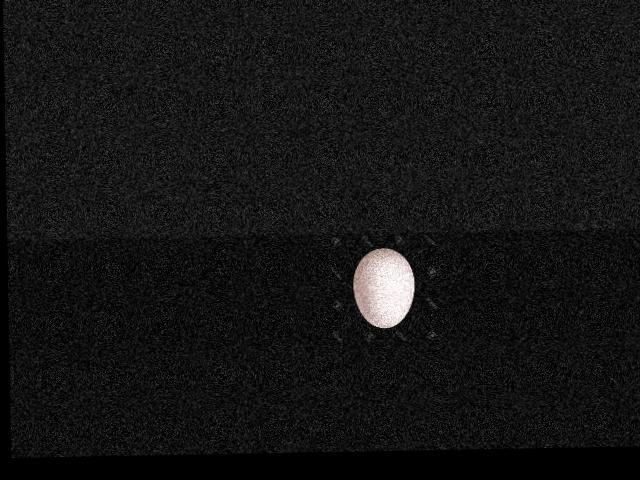egg: (354, 247, 415, 327)
